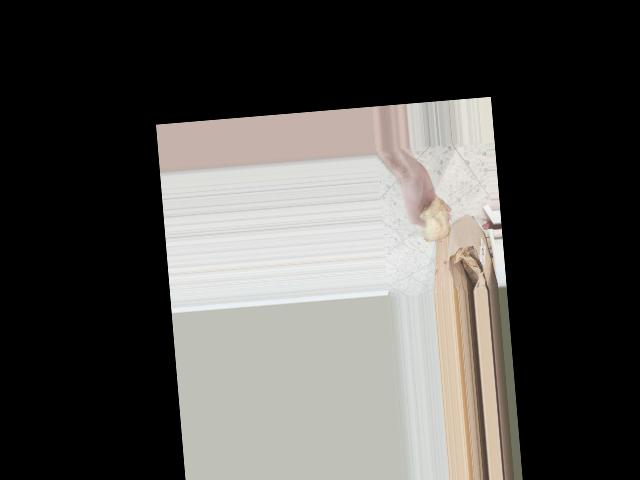onion: (412, 194, 451, 245)
